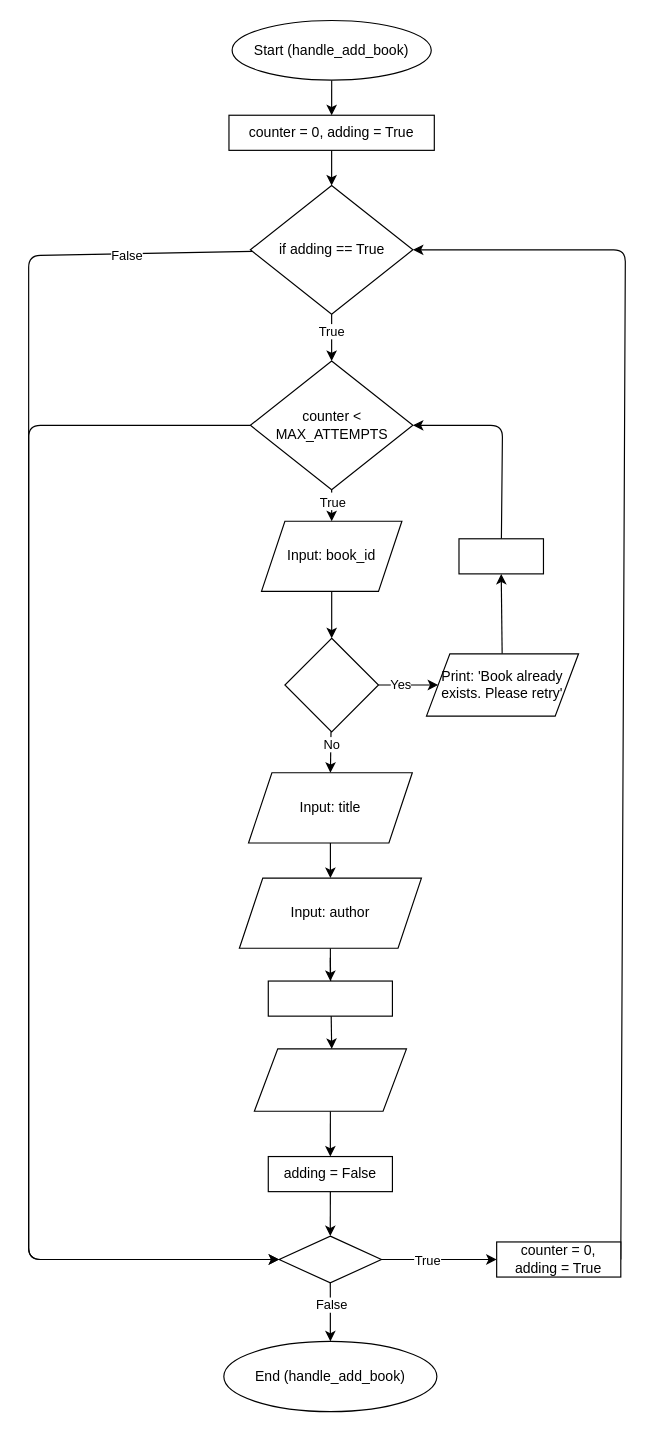
This 655x1432 diagram has some shape labels left out. The shapes that lost their labels are listed below. From the top down, each one's box as (x1, y1, x2, y2) in pixels, then its label:
(458, 538, 543, 574): counter += 1
(284, 637, 378, 732): book exist
(267, 980, 392, 1016): Save book to database
(253, 1048, 406, 1111): Print: Book has been added!
(278, 1235, 381, 1283): Continue?
